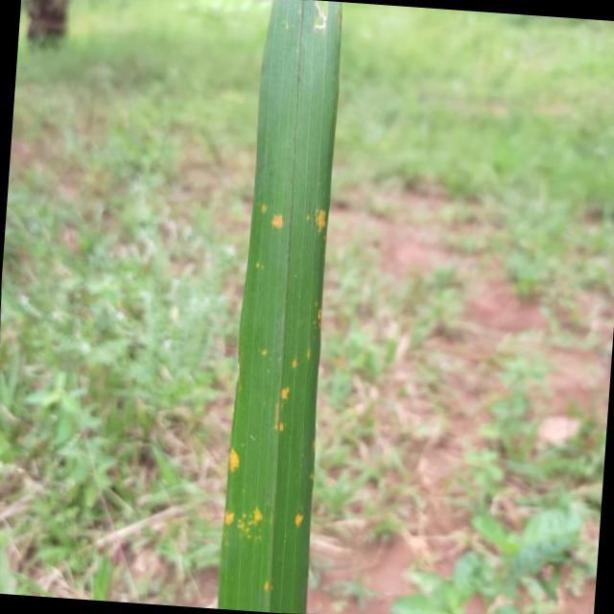Kalium: (222, 0, 342, 614)
